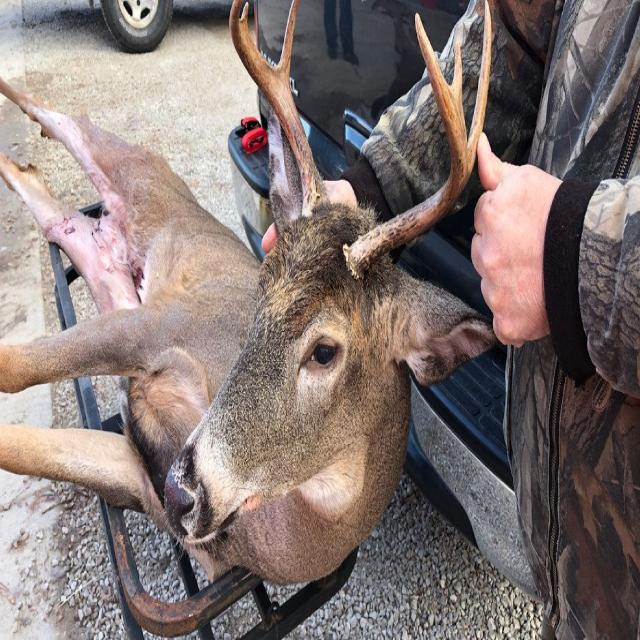Boar: (0, 0, 500, 590)
